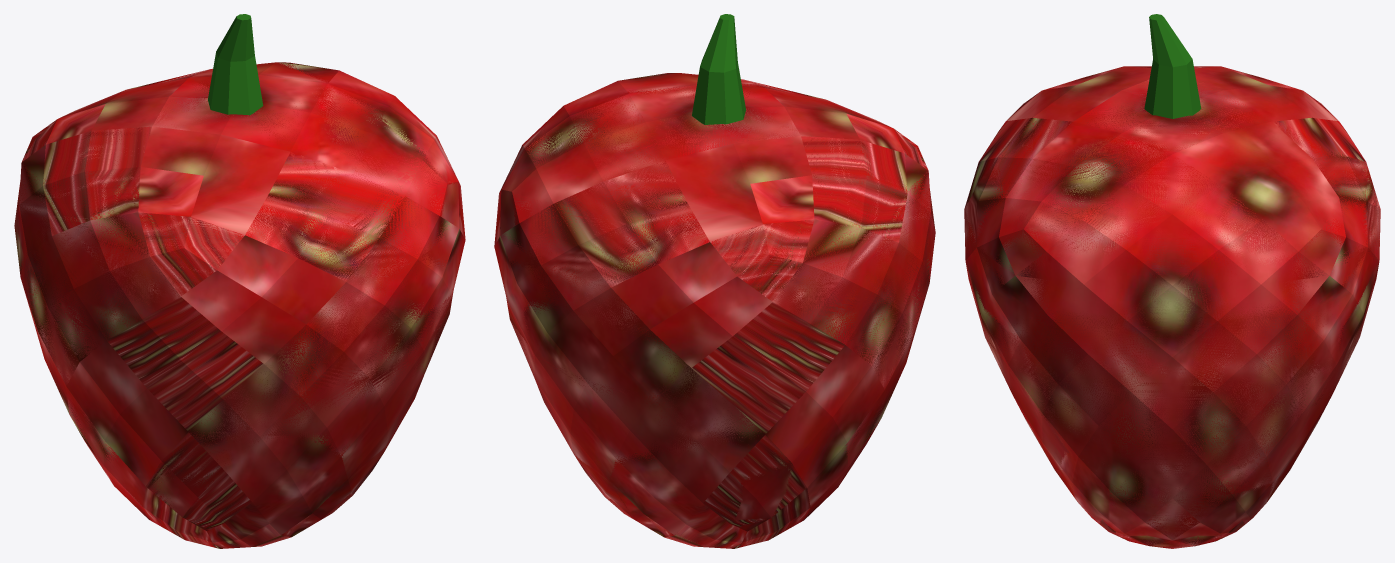
File: fresaÑam.fbx
The picture shows the model from 3 angles, left to right: view 1: azimuth 30°, elevation 25°; view 2: azimuth 150°, elevation 25°; view 3: azimuth 270°, elevation 25°; orthographic projection. The views are drawn at different scales.
Parts seen in each view (by area): view 1: FresaÑam, RaboFresa.015; view 2: FresaÑam, RaboFresa.015; view 3: FresaÑam, RaboFresa.015.
Boxes of the visible parts, x1,y1,x2,y2 form: FresaÑam: (14, 62, 465, 548); RaboFresa.015: (208, 14, 263, 115); FresaÑam: (494, 73, 935, 548); RaboFresa.015: (692, 14, 745, 124); FresaÑam: (964, 66, 1380, 548); RaboFresa.015: (1144, 14, 1201, 118).
Bounding box in the file's own units: 76.29 × 100 × 73.29.
